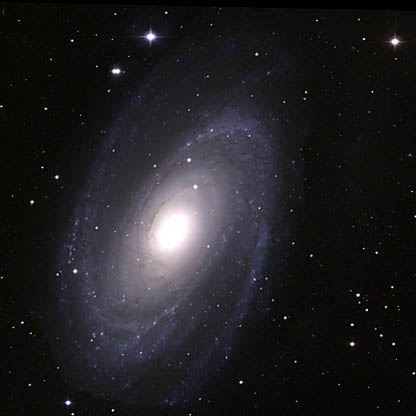Messier 81: (48, 28, 299, 407)
